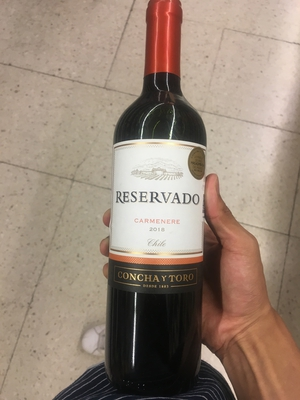reservado carmenere: (100, 18, 219, 393)
